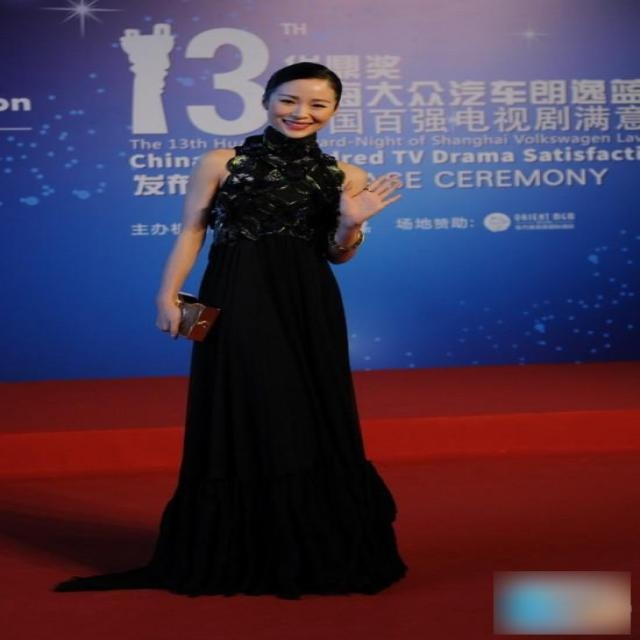obstacle: (127, 59, 420, 587)
